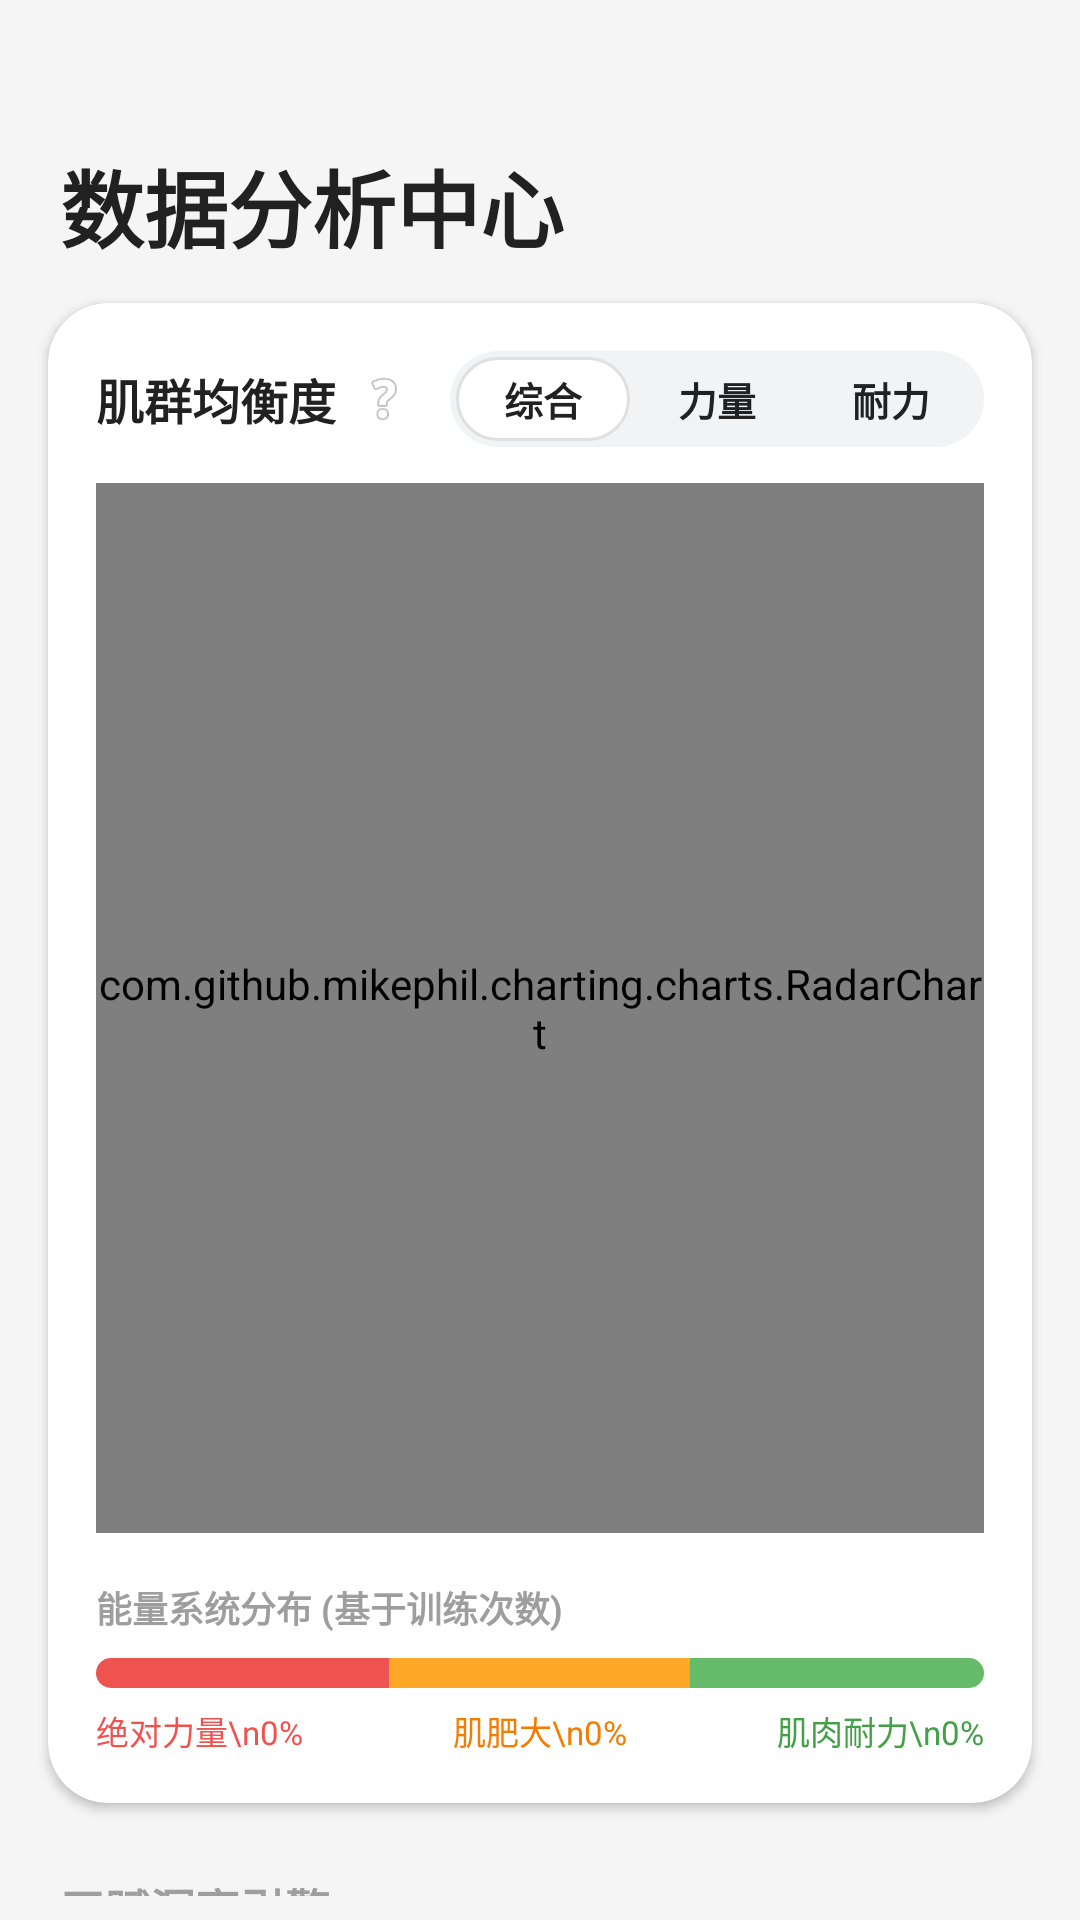

Screen size 1080w x 1920h. Icon name, then its center in pixels as (x=x, y=y):
help: (x=384, y=399)
